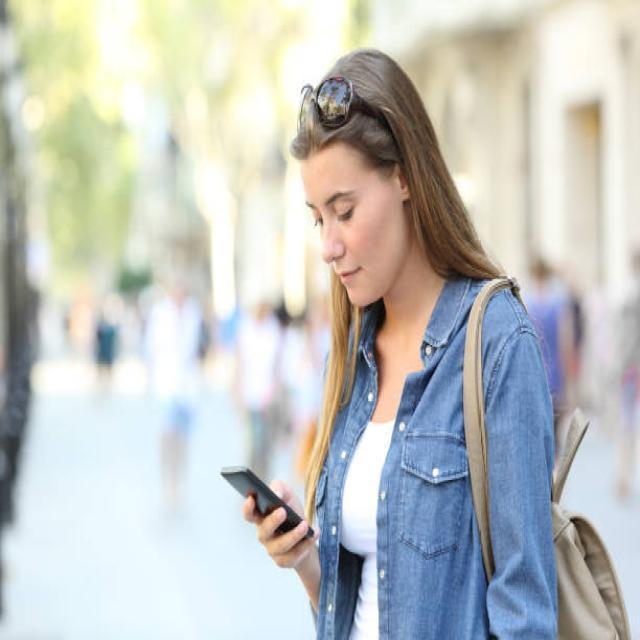Phone use: (216, 41, 482, 553)
